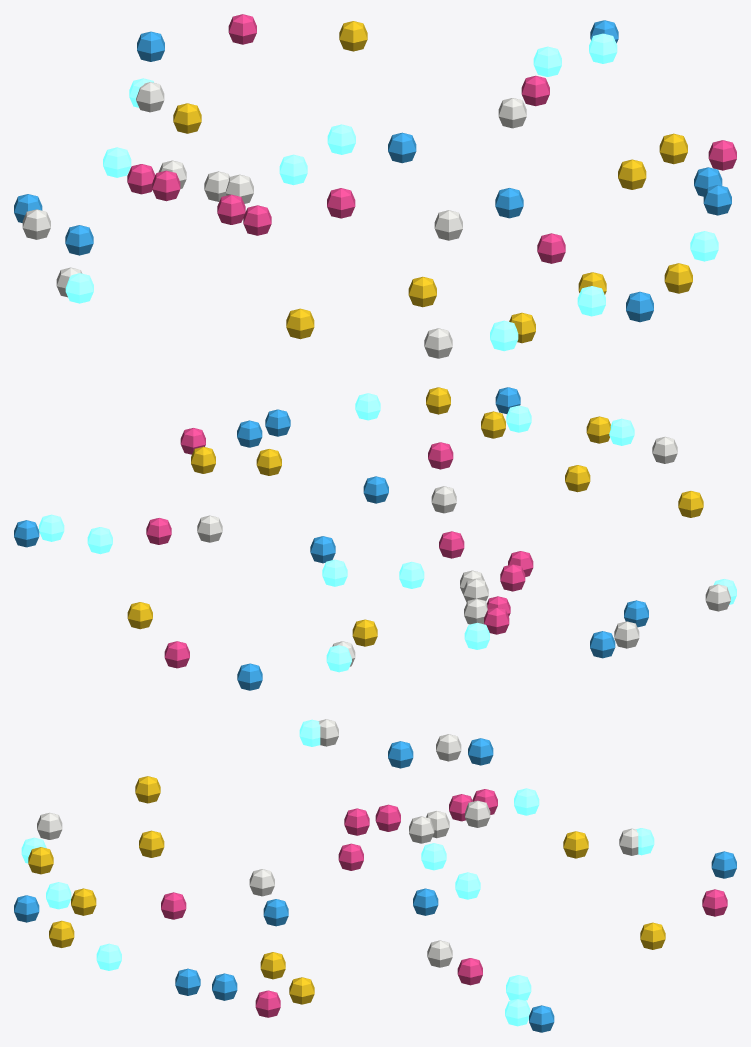
Rendered from marble-spill.glb.
3 renders of one model, top to bottom at view 1: azimuth 30°, elevation 25°; view 2: azimuth 150°, elevation 25°; view 3: azimuth 270°, elevation 25°, orthographic. The views are drawn at different scales.
Parts seen in each view (by area): view 1: marble-spill; view 2: marble-spill; view 3: marble-spill.
Boxes of the visible parts, <box> form: marble-spill: <box>14,14,736,358</box>; marble-spill: <box>14,387,736,690</box>; marble-spill: <box>14,719,736,1032</box>.
Bounding box in the file's own units: 3.38 × 0.14 × 3.46.
